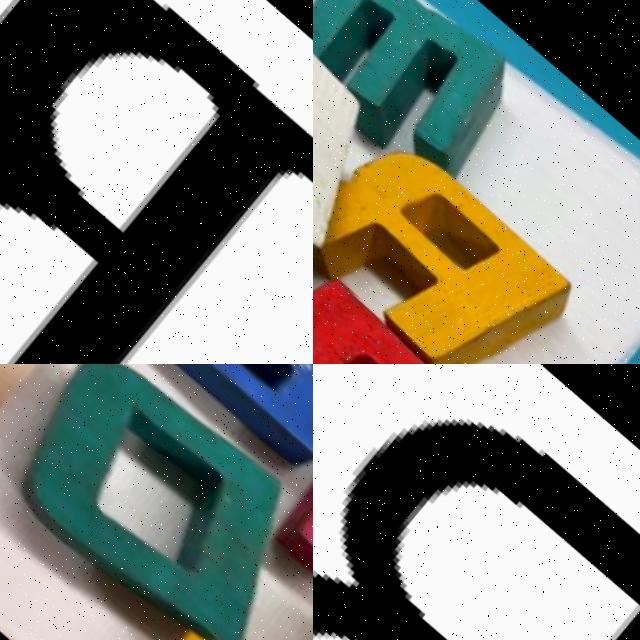B: (313, 405, 640, 640), (130, 364, 313, 476)
D: (0, 364, 313, 640)
H: (313, 0, 406, 286)
L: (135, 488, 313, 640)
M: (313, 0, 546, 198)
R: (313, 94, 589, 364)
